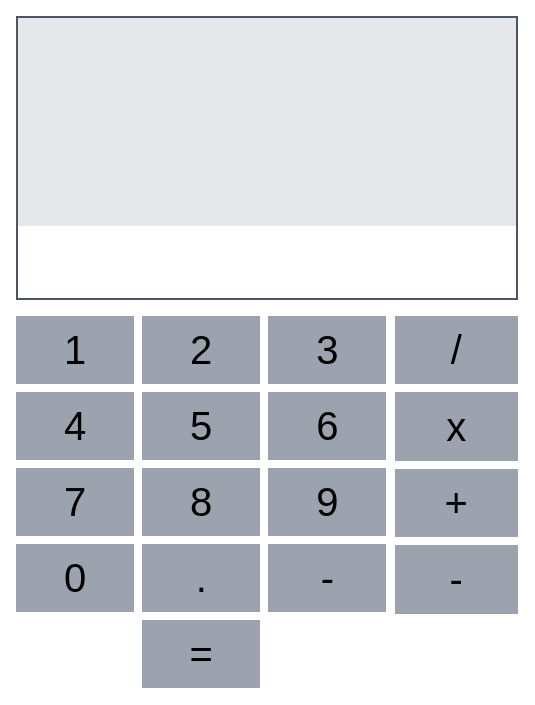
Test: Tests Page › calculator › should type numbers correctly
Click the button "1": point(75, 350) [16,316,134,384]
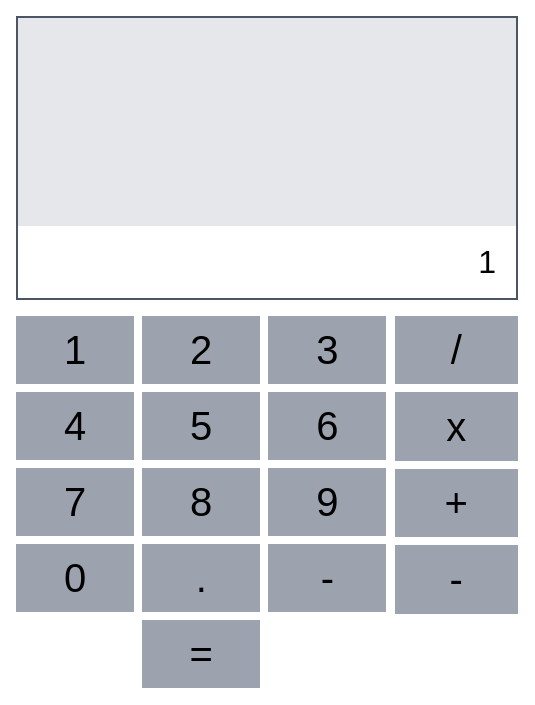
expect the field holds "1": met, box [56,226,516,298]
Click the button "2": point(201, 350) [142,316,260,384]
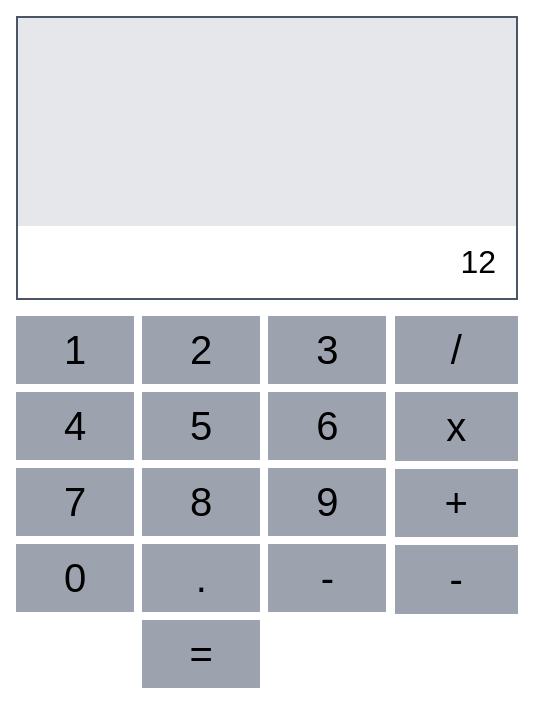
expect the field holds "12": met, box [56,226,516,298]
